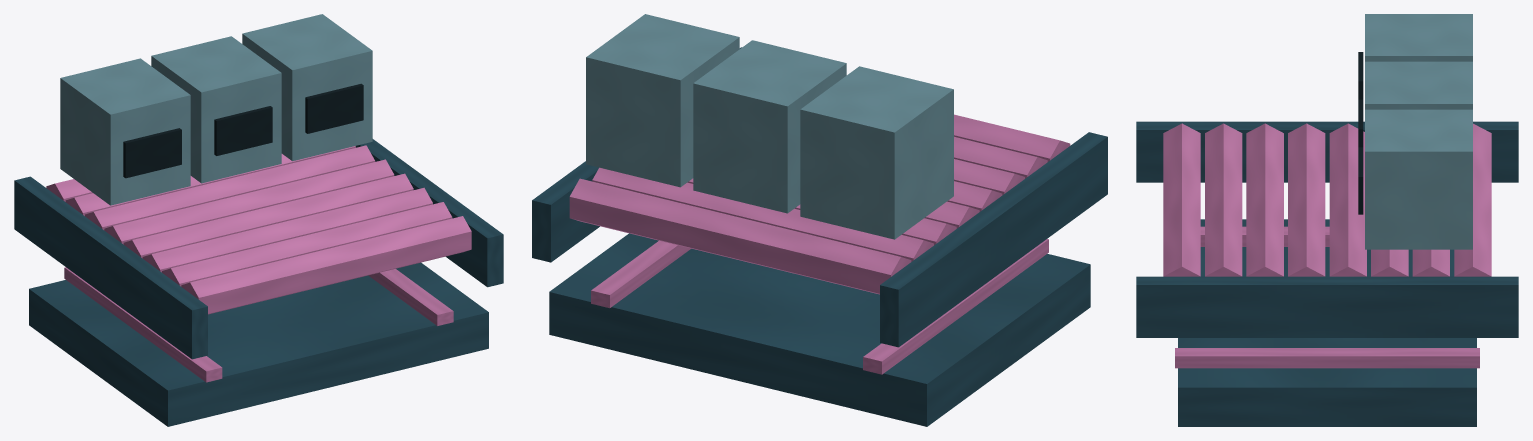
The model's file is atlas100-s063-a01.lod1.glb.
3 renders of one model, left to right at view 1: azimuth 30°, elevation 25°; view 2: azimuth 150°, elevation 25°; view 3: azimuth 270°, elevation 25°, orthographic. The views are drawn at different scales.
Visible parts, largest first — view 1: atlas100-s063-a01:part-000, atlas100-s063-a01:part-013, atlas100-s063-a01:part-011, atlas100-s063-a01:part-015, atlas100-s063-a01:part-017, atlas100-s063-a01:part-010, atlas100-s063-a01:part-009, atlas100-s063-a01:part-006, atlas100-s063-a01:part-008, atlas100-s063-a01:part-005, atlas100-s063-a01:part-007, atlas100-s063-a01:part-012 (+7 smaller); view 2: atlas100-s063-a01:part-000, atlas100-s063-a01:part-013, atlas100-s063-a01:part-017, atlas100-s063-a01:part-015, atlas100-s063-a01:part-011, atlas100-s063-a01:part-003, atlas100-s063-a01:part-004, atlas100-s063-a01:part-012, atlas100-s063-a01:part-001, atlas100-s063-a01:part-002, atlas100-s063-a01:part-010, atlas100-s063-a01:part-009 (+4 smaller); view 3: atlas100-s063-a01:part-012, atlas100-s063-a01:part-000, atlas100-s063-a01:part-017, atlas100-s063-a01:part-002, atlas100-s063-a01:part-011, atlas100-s063-a01:part-007, atlas100-s063-a01:part-008, atlas100-s063-a01:part-009, atlas100-s063-a01:part-010, atlas100-s063-a01:part-015, atlas100-s063-a01:part-013, atlas100-s063-a01:part-006 (+5 smaller).
Part boxes in pixels (x1=…): atlas100-s063-a01:part-000: x1=29, y1=262, x2=488, y2=426; atlas100-s063-a01:part-013: x1=60, y1=58, x2=190, y2=205; atlas100-s063-a01:part-011: x1=14, y1=176, x2=207, y2=359; atlas100-s063-a01:part-015: x1=151, y1=36, x2=281, y2=183; atlas100-s063-a01:part-017: x1=242, y1=14, x2=372, y2=161; atlas100-s063-a01:part-010: x1=181, y1=216, x2=471, y2=314; atlas100-s063-a01:part-009: x1=162, y1=202, x2=452, y2=286; atlas100-s063-a01:part-006: x1=104, y1=159, x2=394, y2=244; atlas100-s063-a01:part-008: x1=142, y1=187, x2=432, y2=272; atlas100-s063-a01:part-005: x1=85, y1=145, x2=375, y2=229; atlas100-s063-a01:part-007: x1=123, y1=173, x2=413, y2=258; atlas100-s063-a01:part-012: x1=355, y1=139, x2=503, y2=287; atlas100-s063-a01:part-000: x1=549, y1=233, x2=1090, y2=426; atlas100-s063-a01:part-013: x1=800, y1=66, x2=953, y2=239; atlas100-s063-a01:part-017: x1=586, y1=14, x2=739, y2=187; atlas100-s063-a01:part-015: x1=693, y1=40, x2=846, y2=213; atlas100-s063-a01:part-011: x1=880, y1=132, x2=1107, y2=347; atlas100-s063-a01:part-003: x1=569, y1=178, x2=911, y2=294; atlas100-s063-a01:part-004: x1=592, y1=167, x2=933, y2=261; atlas100-s063-a01:part-012: x1=532, y1=47, x2=741, y2=262; atlas100-s063-a01:part-001: x1=863, y1=239, x2=1048, y2=374; atlas100-s063-a01:part-002: x1=591, y1=240, x2=690, y2=308; atlas100-s063-a01:part-010: x1=954, y1=114, x2=1070, y2=161; atlas100-s063-a01:part-009: x1=954, y1=136, x2=1047, y2=178; atlas100-s063-a01:part-012: x1=1136, y1=276, x2=1518, y2=337; atlas100-s063-a01:part-000: x1=1178, y1=219, x2=1476, y2=426; atlas100-s063-a01:part-017: x1=1365, y1=109, x2=1472, y2=249; atlas100-s063-a01:part-002: x1=1175, y1=348, x2=1479, y2=368; atlas100-s063-a01:part-011: x1=1136, y1=121, x2=1518, y2=182; atlas100-s063-a01:part-007: x1=1288, y1=123, x2=1325, y2=276; atlas100-s063-a01:part-008: x1=1246, y1=123, x2=1283, y2=276; atlas100-s063-a01:part-009: x1=1205, y1=123, x2=1242, y2=276; atlas100-s063-a01:part-010: x1=1163, y1=123, x2=1200, y2=276; atlas100-s063-a01:part-015: x1=1365, y1=61, x2=1472, y2=109; atlas100-s063-a01:part-013: x1=1365, y1=14, x2=1472, y2=61; atlas100-s063-a01:part-006: x1=1329, y1=123, x2=1366, y2=276.
Size of the model in its own units: 2.4 by 1.73 by 2.3.
Materials: 4 (4 with a texture image).
